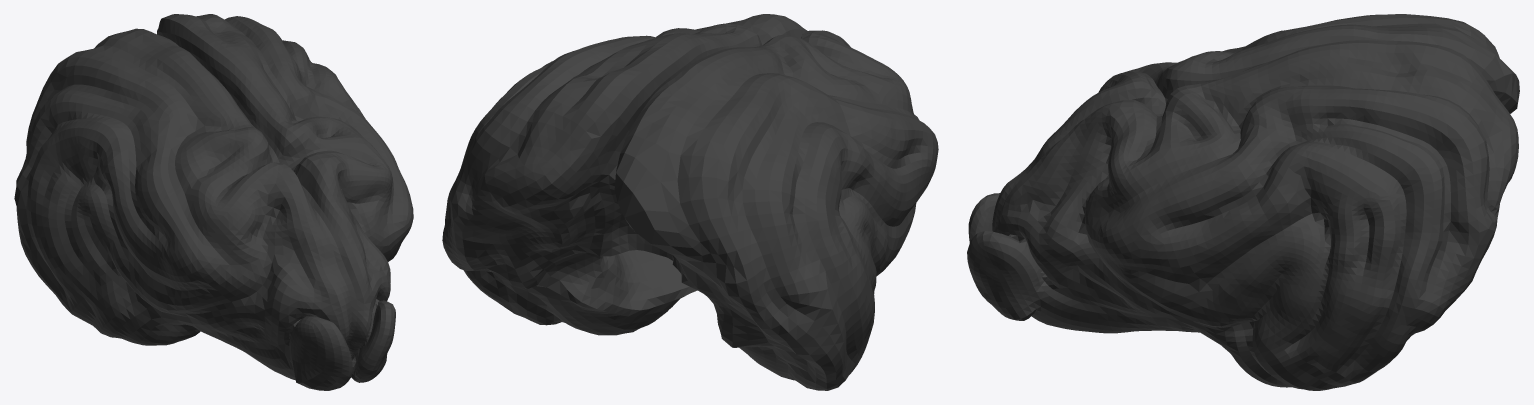
The model's file is Brain_low_Brain_low.glb.
The picture shows the model from 3 angles, left to right: view 1: azimuth 30°, elevation 25°; view 2: azimuth 150°, elevation 25°; view 3: azimuth 270°, elevation 25°; orthographic projection. The views are drawn at different scales.
Visible parts, largest first — view 1: Brain_low_Brain_low; view 2: Brain_low_Brain_low; view 3: Brain_low_Brain_low.
Boxes of the visible parts, box(x1,y1,x2,y2) form: Brain_low_Brain_low: box(14, 14, 413, 390); Brain_low_Brain_low: box(442, 14, 938, 390); Brain_low_Brain_low: box(967, 14, 1519, 390).
Bounding box in the file's own units: 55.01 × 43.39 × 71.68.
Materials: 1 (1 with a texture image).
